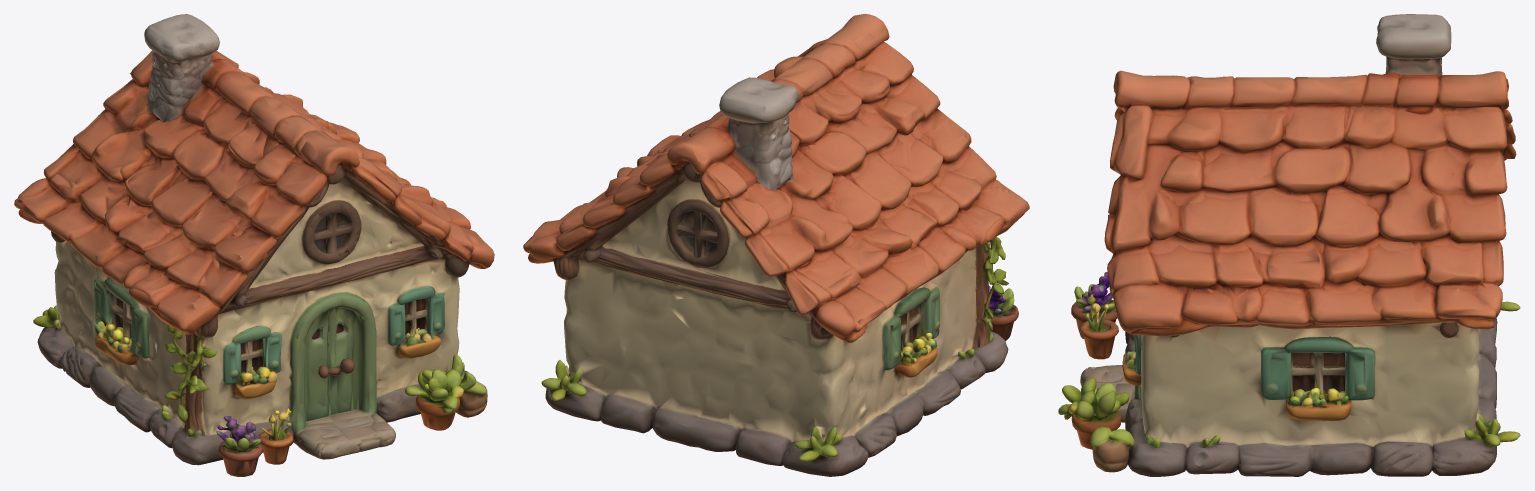
The model's file is cottage.glb.
The picture shows the model from 3 angles, left to right: view 1: azimuth 30°, elevation 25°; view 2: azimuth 150°, elevation 25°; view 3: azimuth 270°, elevation 25°; orthographic projection. The views are drawn at different scales.
Parts seen in each view (by area): view 1: Cottage - Welded game mesh; view 2: Cottage - Welded game mesh; view 3: Cottage - Welded game mesh.
Boxes of the visible parts, left/top/right/bottom form: Cottage - Welded game mesh: left=14, top=14, right=494, bottom=476; Cottage - Welded game mesh: left=523, top=14, right=1029, bottom=476; Cottage - Welded game mesh: left=1058, top=14, right=1520, bottom=476.
Bounding box in the file's own units: 6 × 5.69 × 6.56.
1 material, 1 textured.
